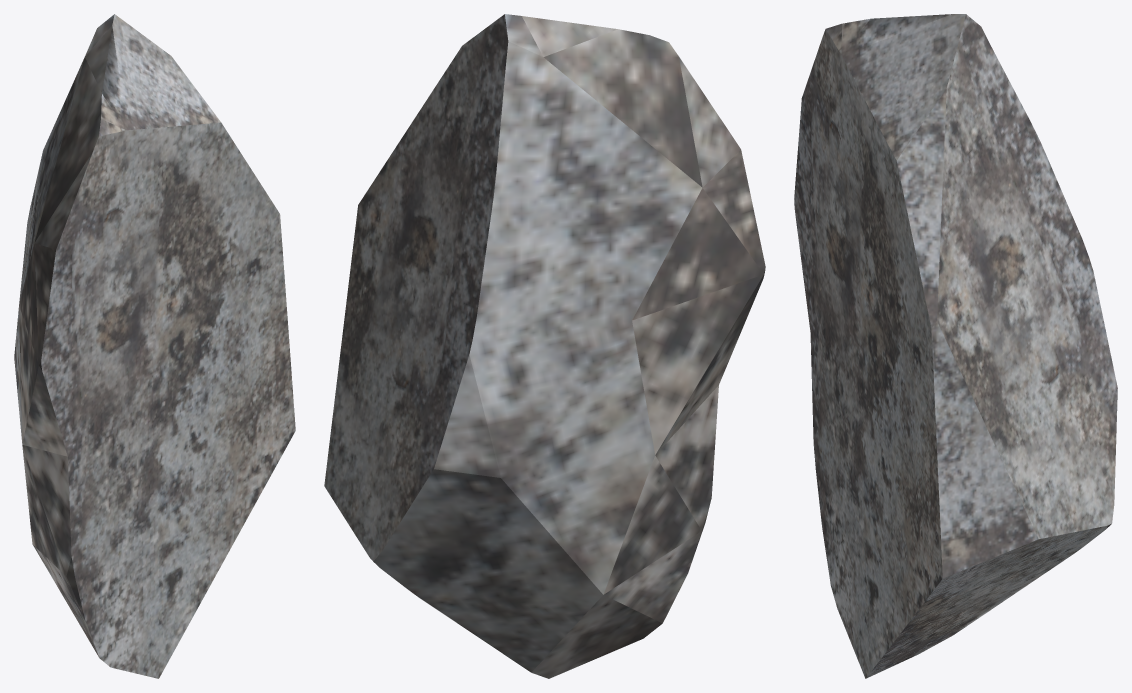
Rendered from Asteroid_Medium_001_02_005_03_008.fbx.
3 renders of one model, left to right at view 1: azimuth 30°, elevation 25°; view 2: azimuth 150°, elevation 25°; view 3: azimuth 270°, elevation 25°, orthographic. The views are drawn at different scales.
Parts seen in each view (by area): view 1: Asteroid_Medium_001_02_005_03_008; view 2: Asteroid_Medium_001_02_005_03_008; view 3: Asteroid_Medium_001_02_005_03_008.
Boxes of the visible parts, x1,y1,x2,y2 form: Asteroid_Medium_001_02_005_03_008: [14, 14, 295, 678]; Asteroid_Medium_001_02_005_03_008: [324, 14, 765, 678]; Asteroid_Medium_001_02_005_03_008: [794, 14, 1117, 678].
Bounding box in the file's own units: 8.75 × 16.2 × 7.13.
